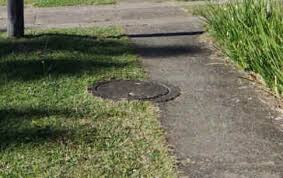Manhole-Closed: (86, 74, 182, 105)
